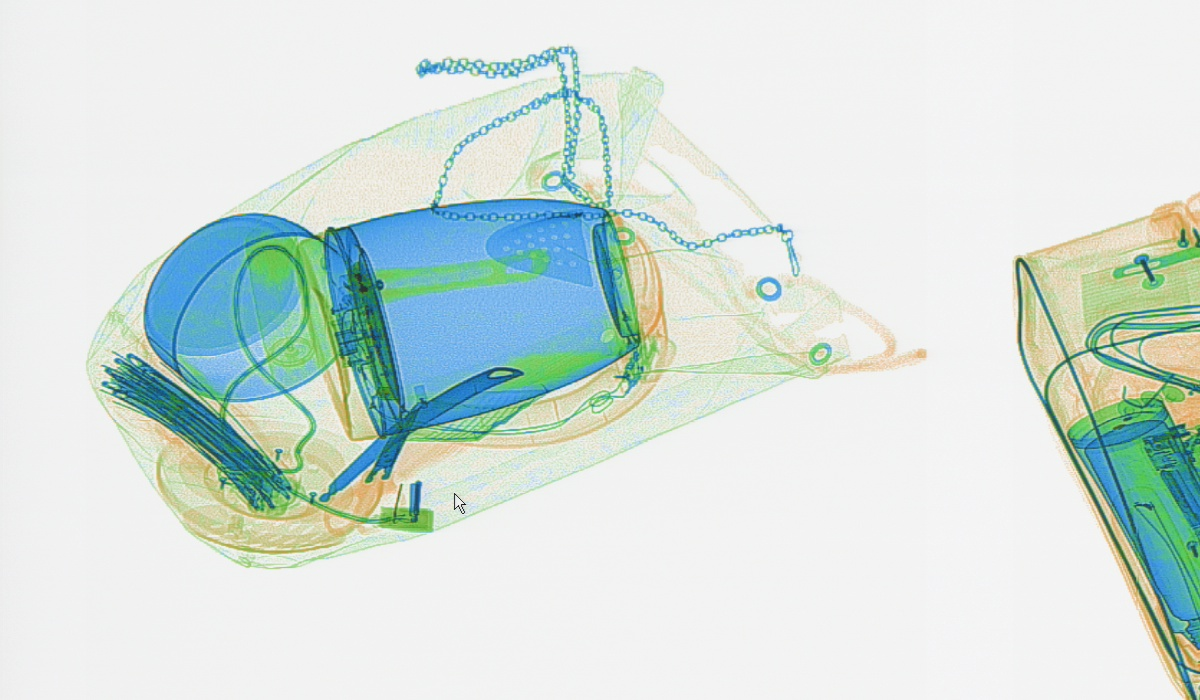scissors: (319, 397, 423, 536)
